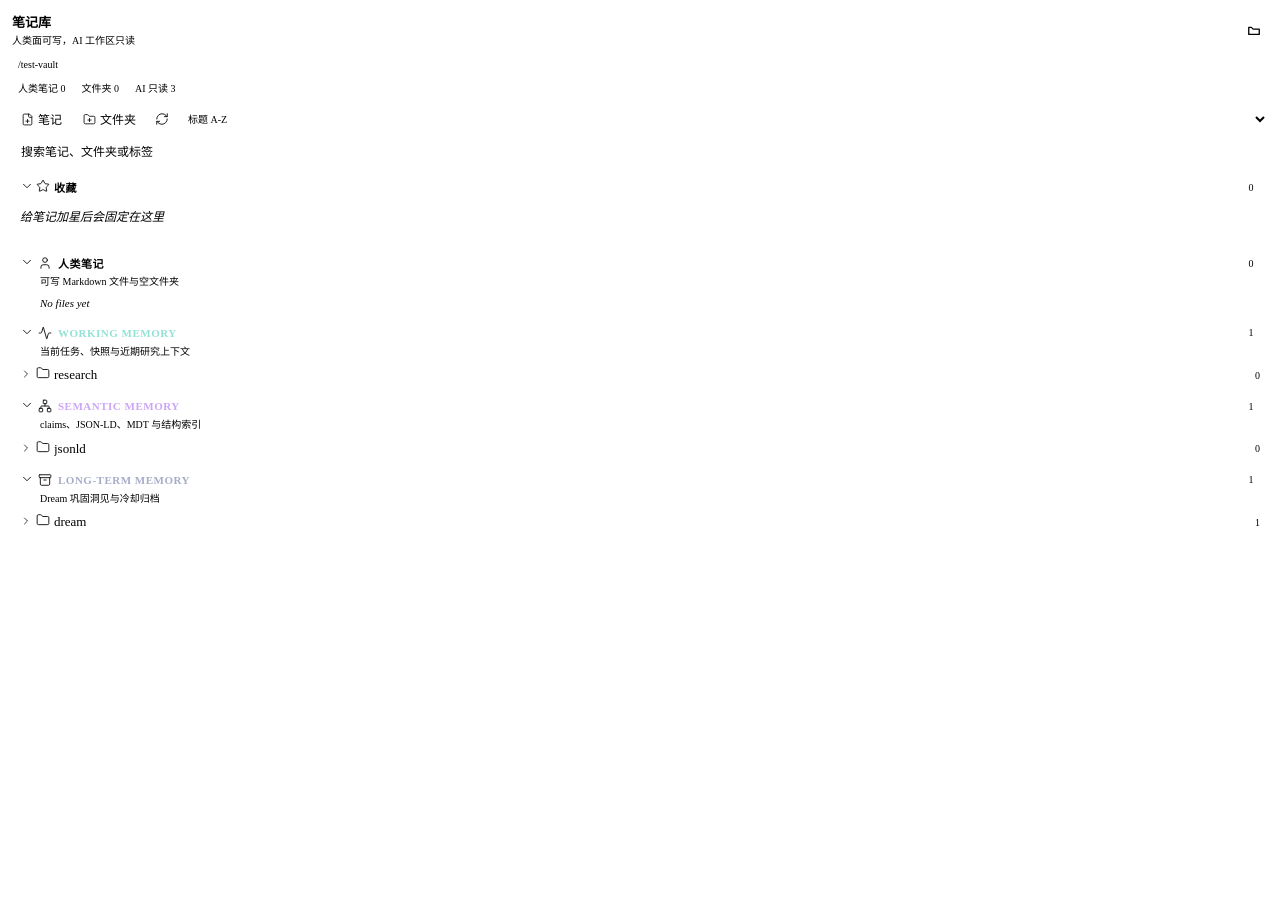
Test: VaultBrowser › renders AI workspace files under Dream memory zones instead of one flat dualtrack group
Click the text "research" at (76, 374), box [54,367,97,382]
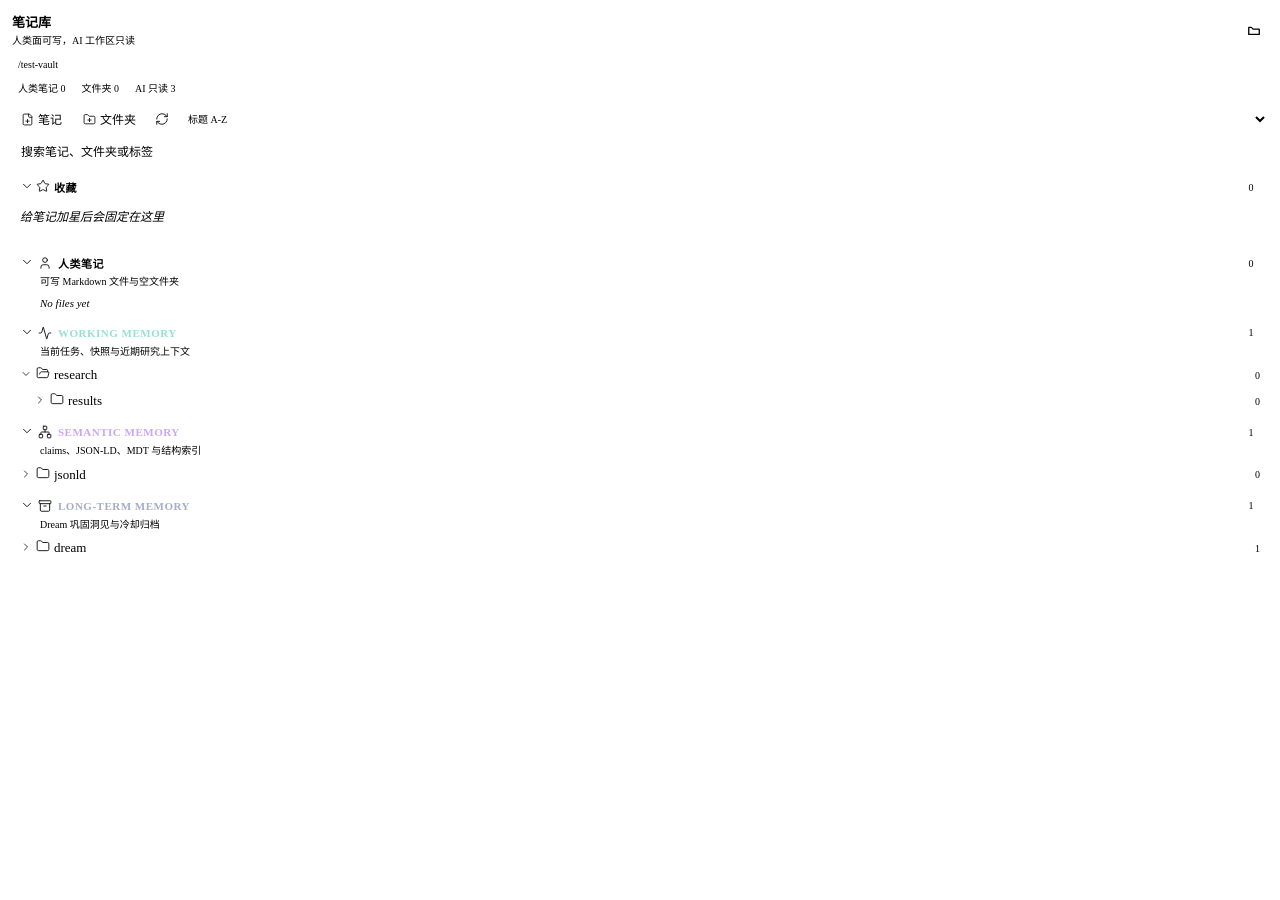
Click the text "results" at (85, 400), box [68,393,102,408]
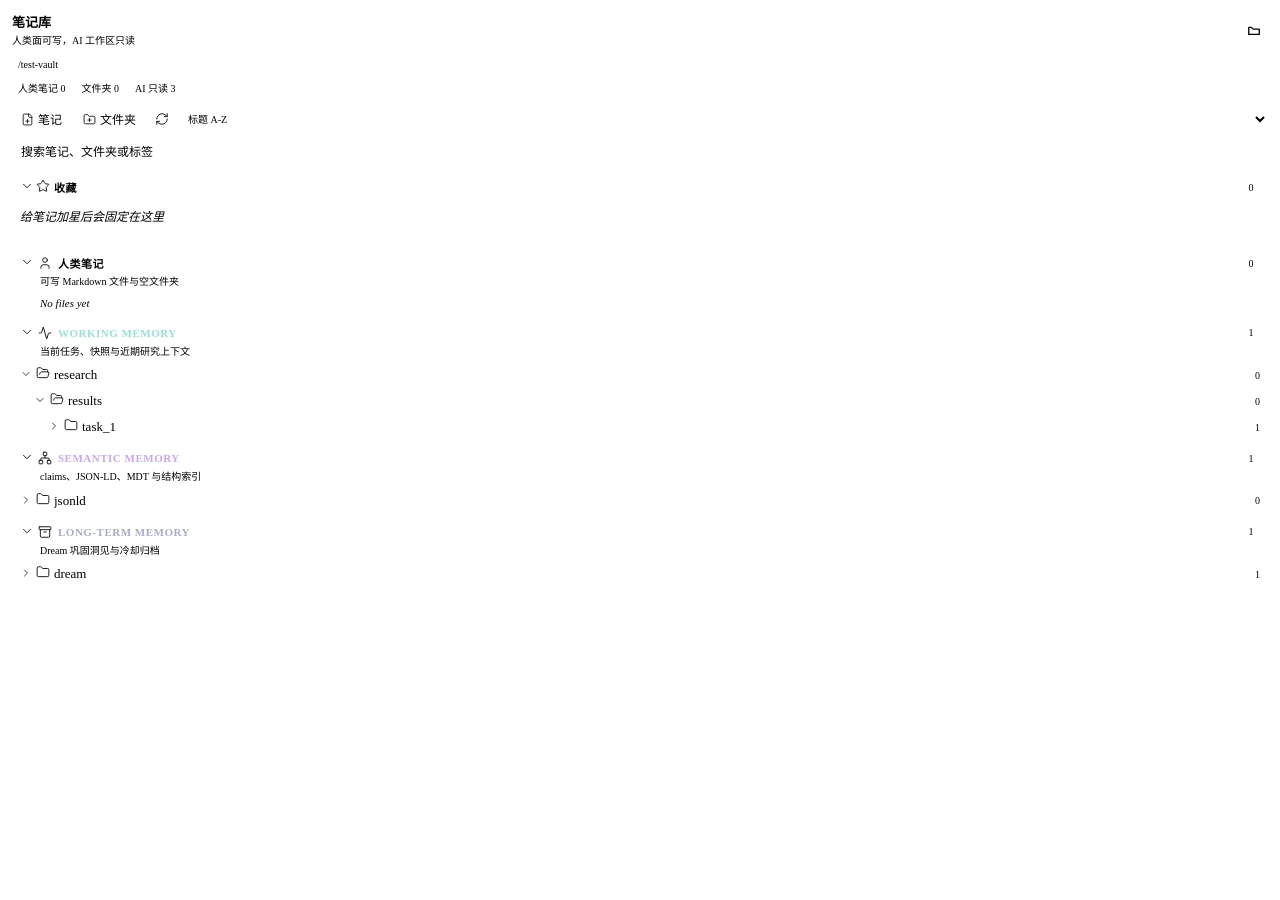
Click the text "task_1" at (99, 426), box [82,419,116,434]
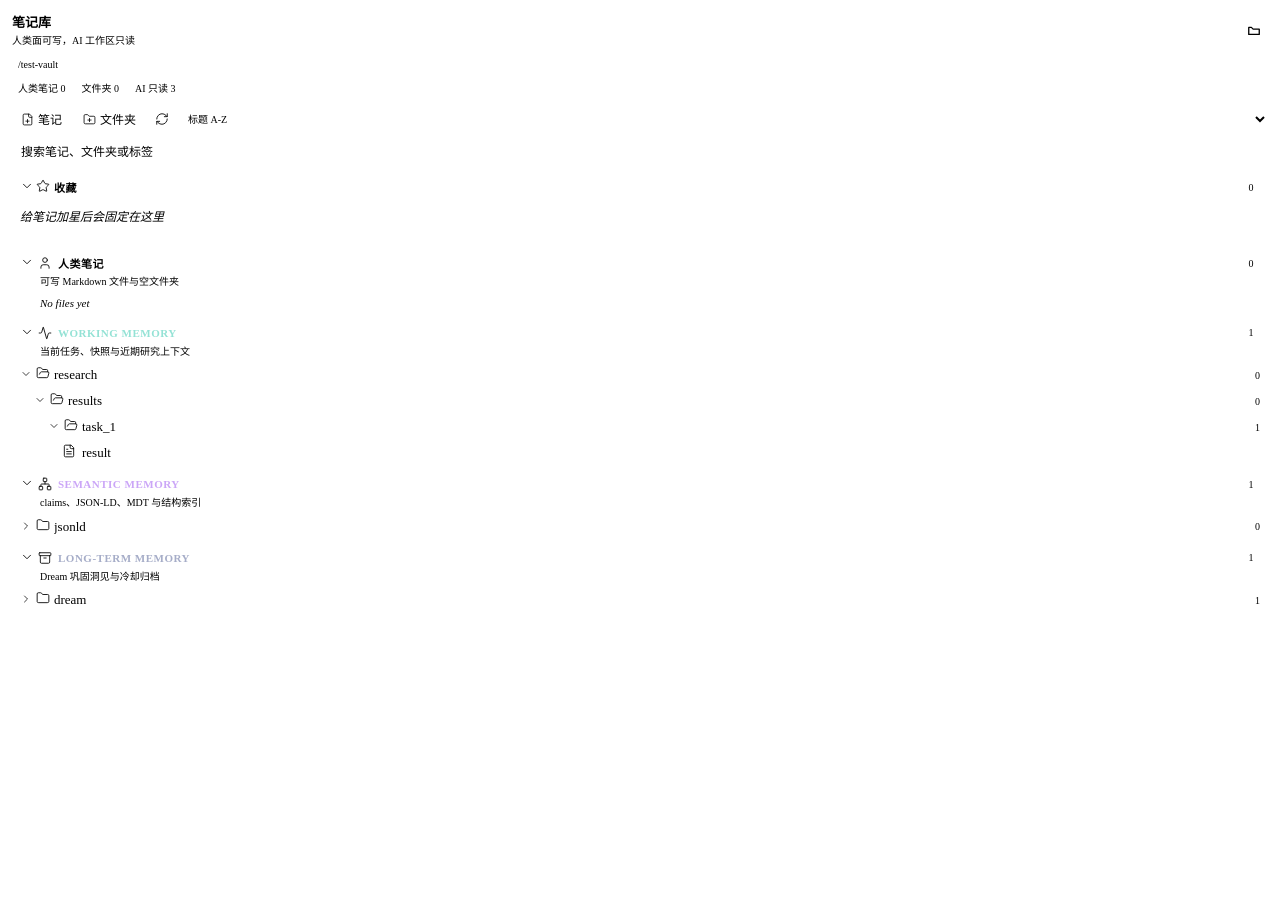
Check: the text "result" is shown, box [82,445,111,460]
Click the text "jsonld" at (70, 526), box [54,518,86,534]
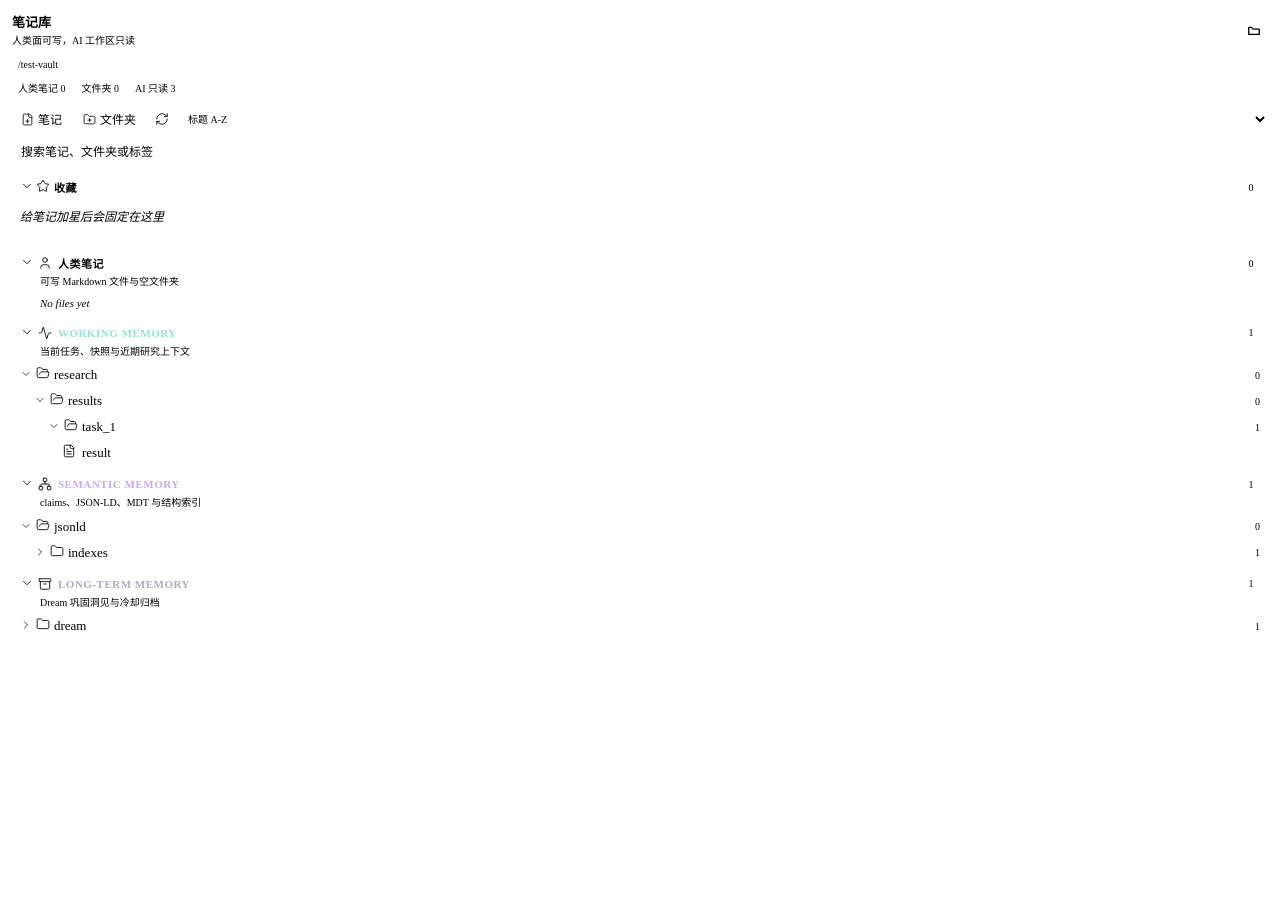
Click the text "indexes" at (88, 552), box [68,544,108,560]
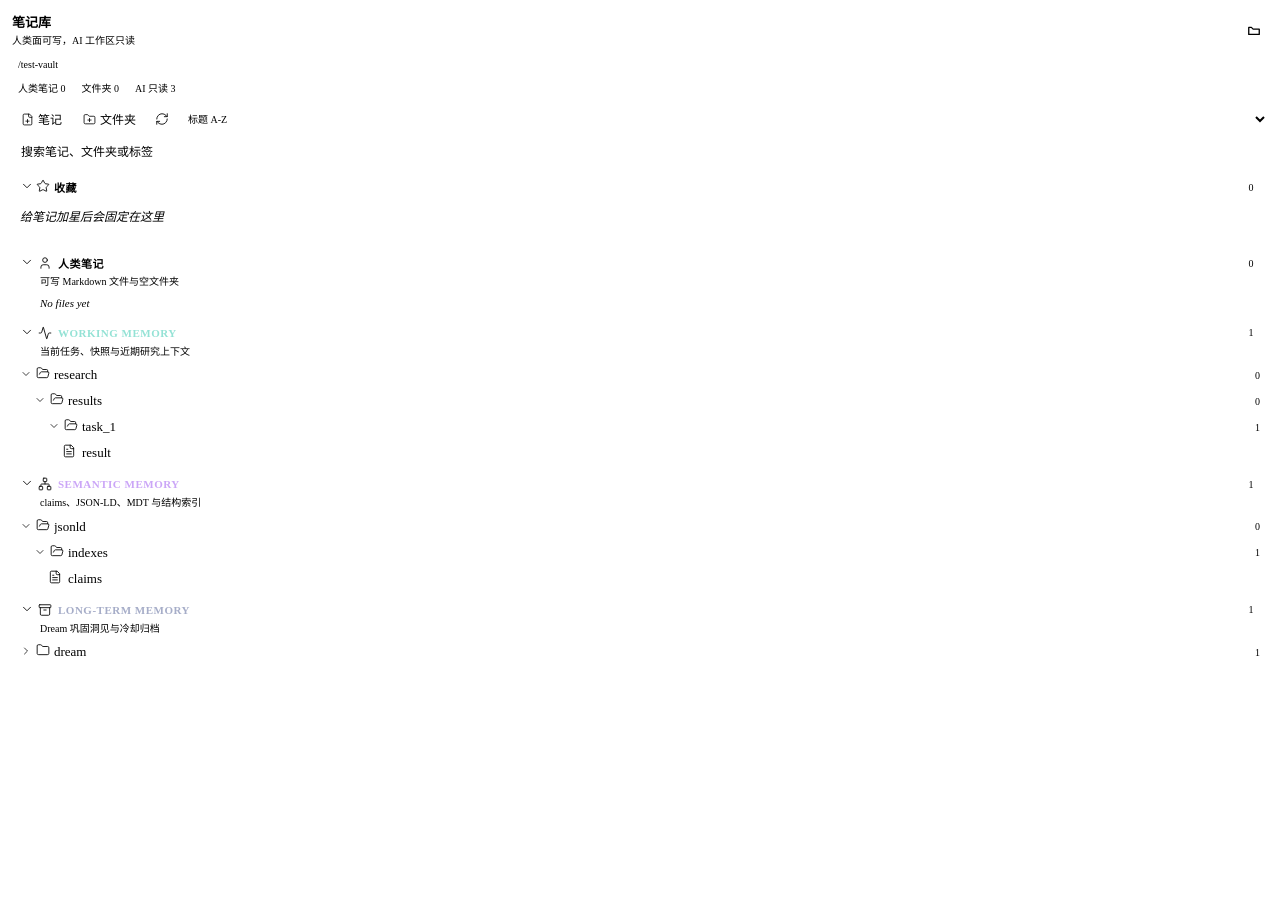
Check: the text "claims" is shown, box [68,570,102,586]
Click the text "dream" at (70, 652), box [54,644,86,659]
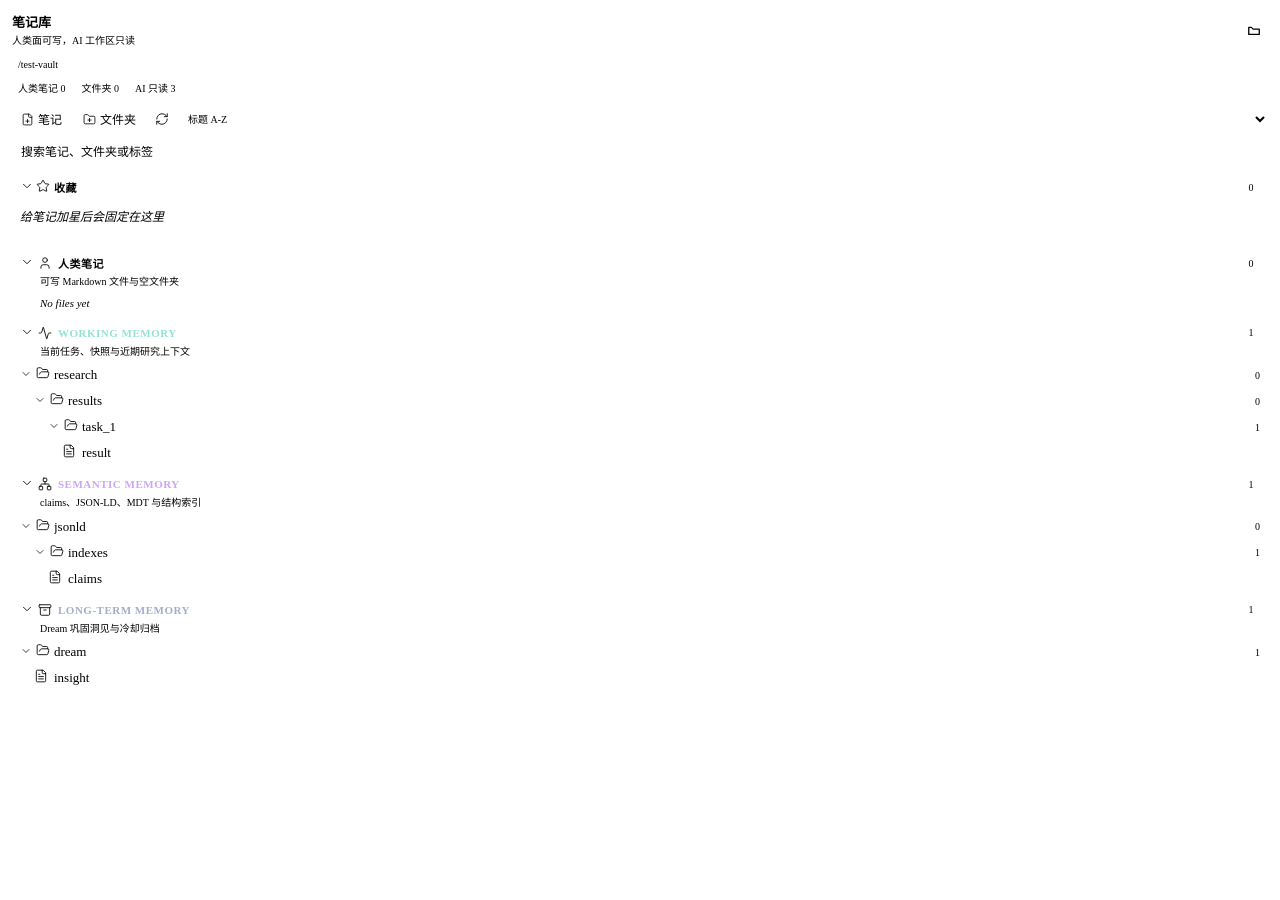
Check: the text "insight" is shown, box [54,670,89,685]
